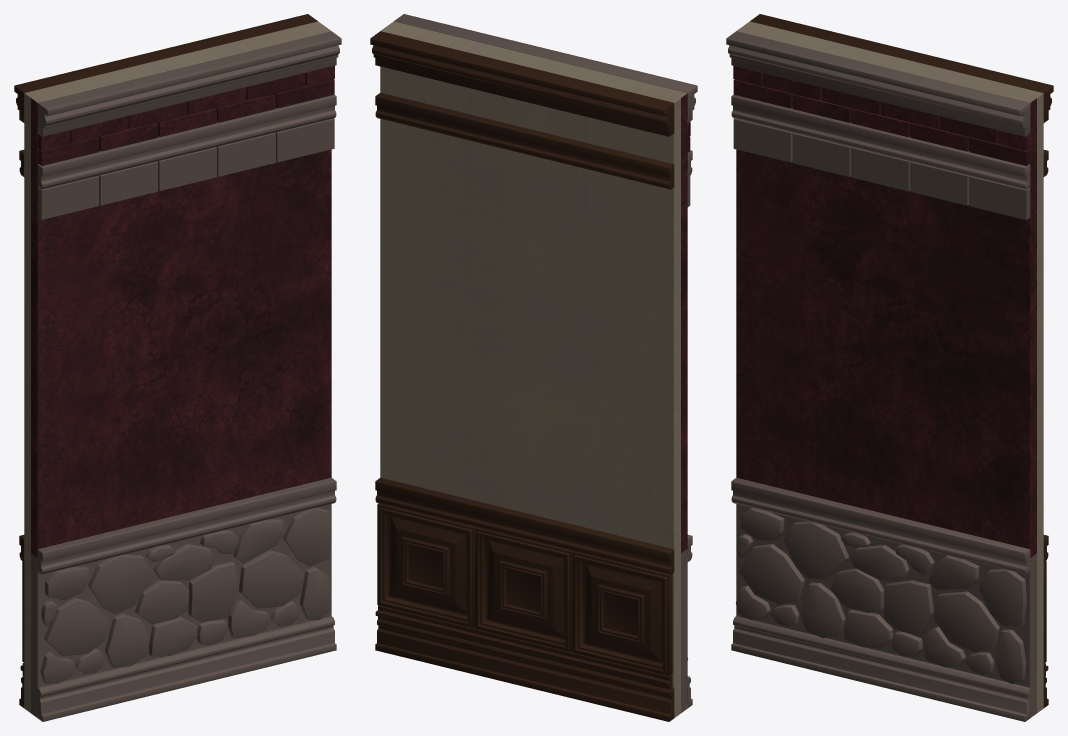
The model's file is SK5 WALL 1.fbx.
The picture shows the model from 3 angles, left to right: view 1: azimuth 30°, elevation 25°; view 2: azimuth 150°, elevation 25°; view 3: azimuth 330°, elevation 25°; orthographic projection.
Visible parts, largest first — view 1: SK5 WALL 1; view 2: SK5 WALL 1; view 3: SK5 WALL 1.
Boxes of the visible parts, x1,y1,x2,y2 form: SK5 WALL 1: (14,14,341,721); SK5 WALL 1: (370,14,697,721); SK5 WALL 1: (726,14,1053,721).
Size of the model in its own units: 200 by 400 by 39.93.
